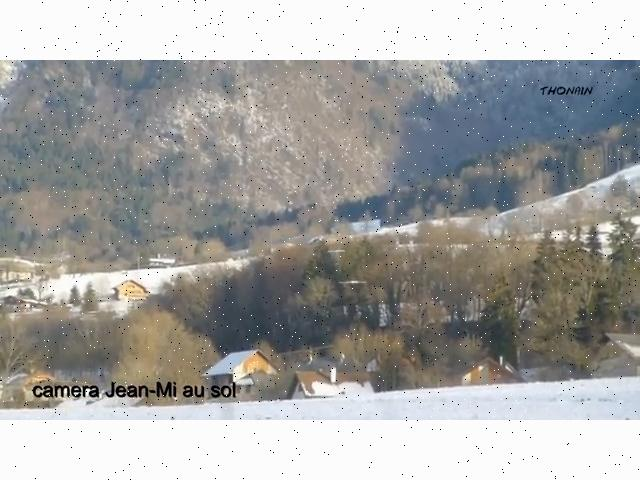Anti-Drone: (336, 274, 374, 298), (322, 242, 358, 263)
